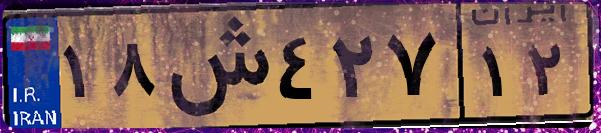1: (57, 26, 110, 100), (475, 38, 525, 113)
2: (330, 28, 385, 110), (525, 38, 570, 115)
4: (270, 28, 330, 110)
7: (385, 28, 445, 110)
8: (110, 28, 158, 98)
ش: (158, 12, 270, 120)
